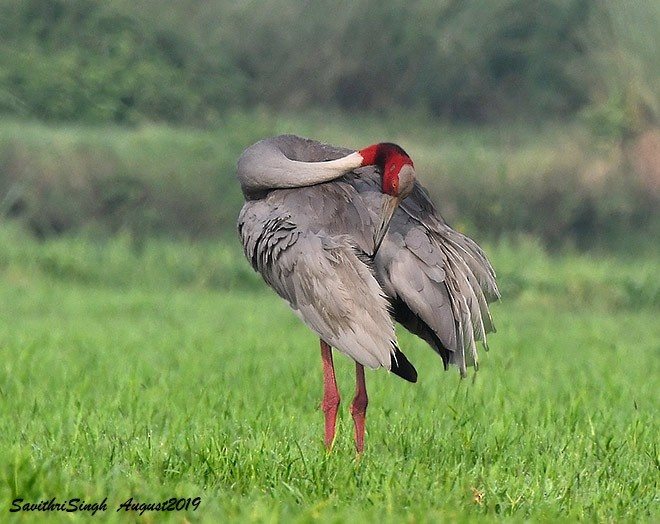crane: (227, 124, 517, 449)
